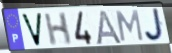4: (74, 10, 94, 47)
A: (95, 9, 123, 46)
H: (43, 11, 73, 47)
J: (143, 8, 166, 44)
M: (114, 9, 145, 43)
V: (20, 13, 44, 49)
